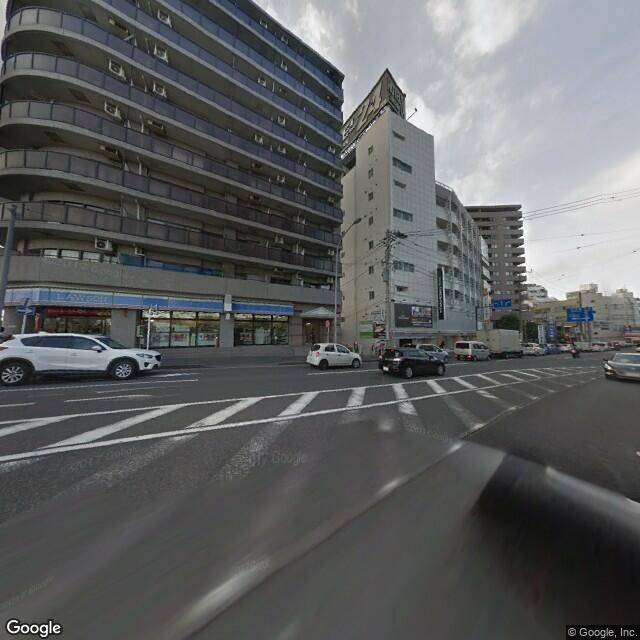lawson: (6, 281, 294, 319)
